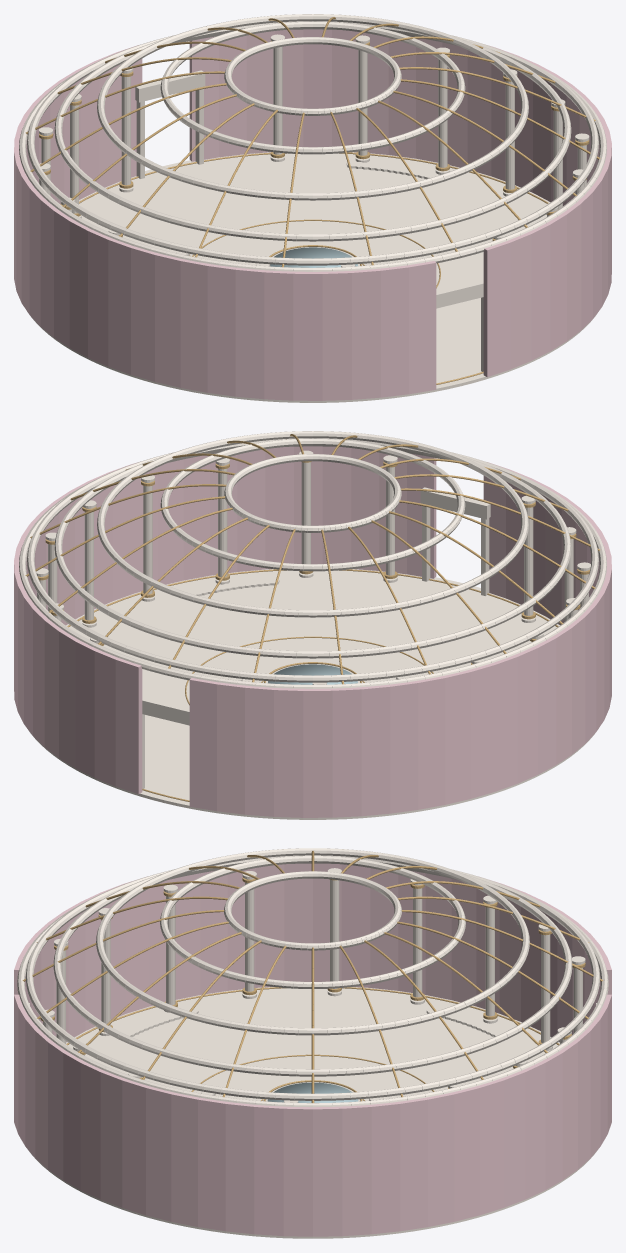
Rendered from room-two-rotunda.glb.
The picture shows the model from 3 angles, top to bottom: view 1: azimuth 30°, elevation 25°; view 2: azimuth 150°, elevation 25°; view 3: azimuth 270°, elevation 25°; orthographic projection.
Parts seen in each view (by area): view 1: Rotunda Room II blush plaster, Rotunda Room II pearl stone, Rotunda Room II champagne brass, Rotunda Still rose water; view 2: Rotunda Room II blush plaster, Rotunda Room II pearl stone, Rotunda Room II champagne brass, Rotunda Still rose water; view 3: Rotunda Room II blush plaster, Rotunda Room II pearl stone, Rotunda Room II champagne brass, Rotunda Still rose water.
Part boxes in pixels (x1,y1,x2,y2): Rotunda Room II blush plaster: (14, 29, 611, 400); Rotunda Room II pearl stone: (19, 14, 606, 402); Rotunda Room II champagne brass: (25, 17, 600, 384); Rotunda Still rose water: (270, 247, 357, 267); Rotunda Room II blush plaster: (14, 446, 611, 817); Rotunda Room II pearl stone: (19, 431, 606, 819); Rotunda Room II champagne brass: (25, 434, 600, 801); Rotunda Still rose water: (268, 664, 357, 684); Rotunda Room II blush plaster: (14, 863, 611, 1236); Rotunda Room II pearl stone: (17, 848, 608, 1238); Rotunda Room II champagne brass: (22, 851, 603, 1103); Rotunda Still rose water: (267, 1082, 358, 1102).
Size of the model in its own units: 28.2 by 10.63 by 28.06.
